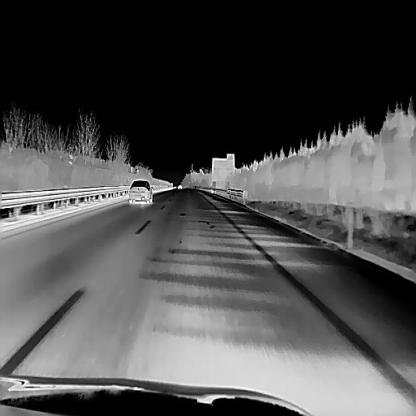car: (127, 179, 152, 204)
